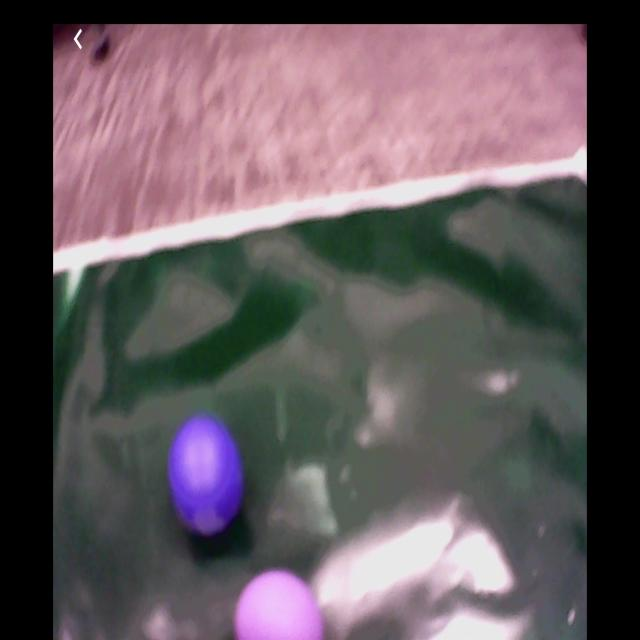ball: (170, 415, 242, 546), (232, 573, 330, 640)
